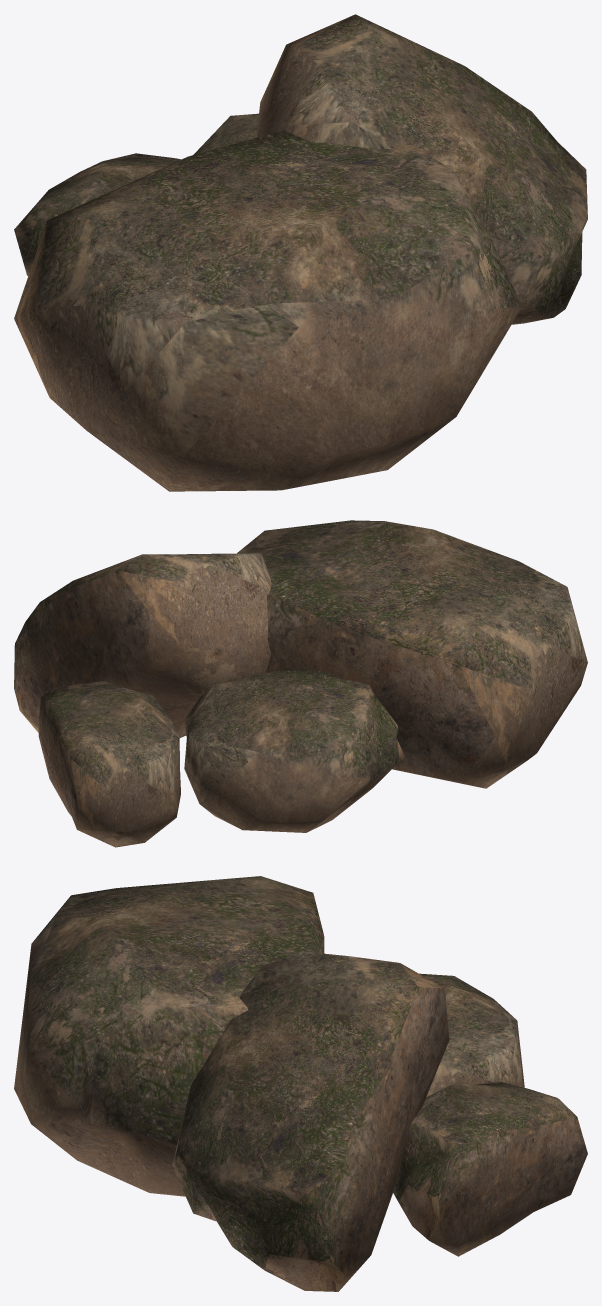
File: MossyRockPile.fbx
The picture shows the model from 3 angles, top to bottom: view 1: azimuth 30°, elevation 25°; view 2: azimuth 150°, elevation 25°; view 3: azimuth 270°, elevation 25°; orthographic projection. The views are drawn at different scales.
Visible parts, largest first — view 1: MossyRockPile; view 2: MossyRockPile; view 3: MossyRockPile.
Part boxes in pixels (left/top/right/bottom): MossyRockPile: left=14, top=14, right=587, bottom=491; MossyRockPile: left=14, top=520, right=587, bottom=847; MossyRockPile: left=14, top=876, right=587, bottom=1291.
Bounding box in the file's own units: 17.95 × 8.47 × 16.9.
